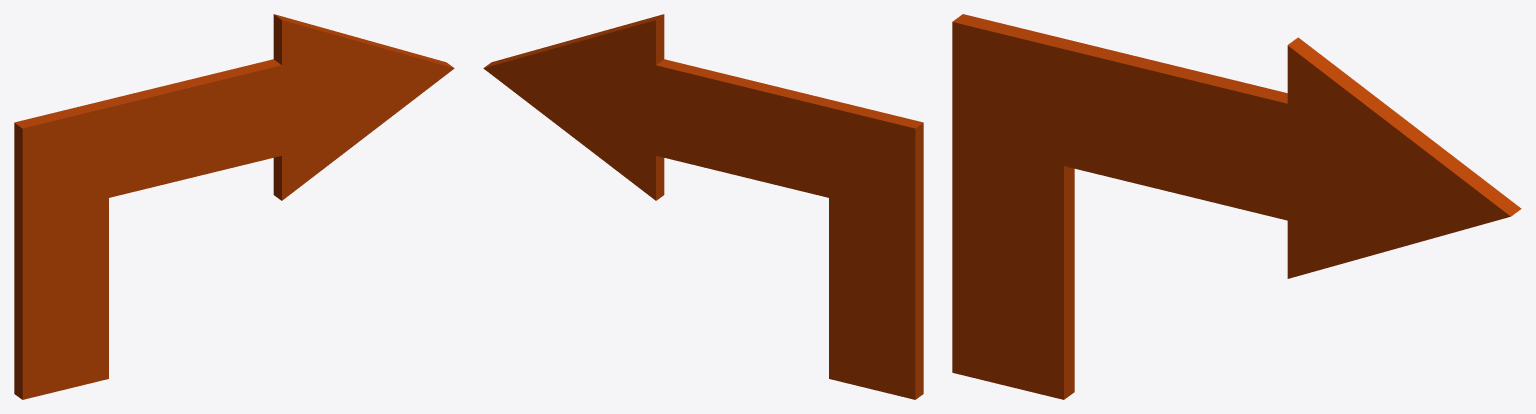
The model's file is arrow_right_2.fbx.
3 renders of one model, left to right at view 1: azimuth 30°, elevation 25°; view 2: azimuth 150°, elevation 25°; view 3: azimuth 330°, elevation 25°, orthographic. The views are drawn at different scales.
Visible parts, largest first — view 1: Group1; view 2: Group1; view 3: Group1.
Boxes of the visible parts, left/top/right/bottom form: Group1: left=14, top=14, right=454, bottom=399; Group1: left=483, top=14, right=923, bottom=399; Group1: left=952, top=14, right=1521, bottom=399.
Size of the model in its own units: 0.75 by 0.525 by 0.025.
